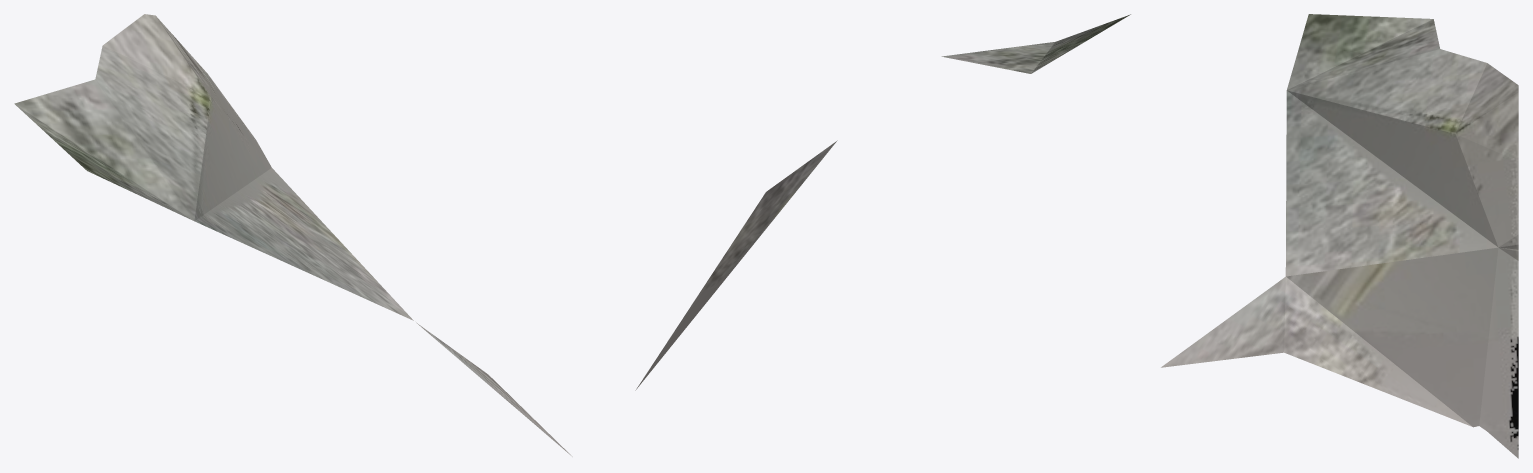
3 views of the same model, side by side, from view 1: azimuth 30°, elevation 25°; view 2: azimuth 150°, elevation 25°; view 3: azimuth 270°, elevation 25° (orthographic). The views are drawn at different scales.
Size of the model in its own units: 4.22 by 4.55 by 4.76.
Materials: 2 (2 with a texture image).
